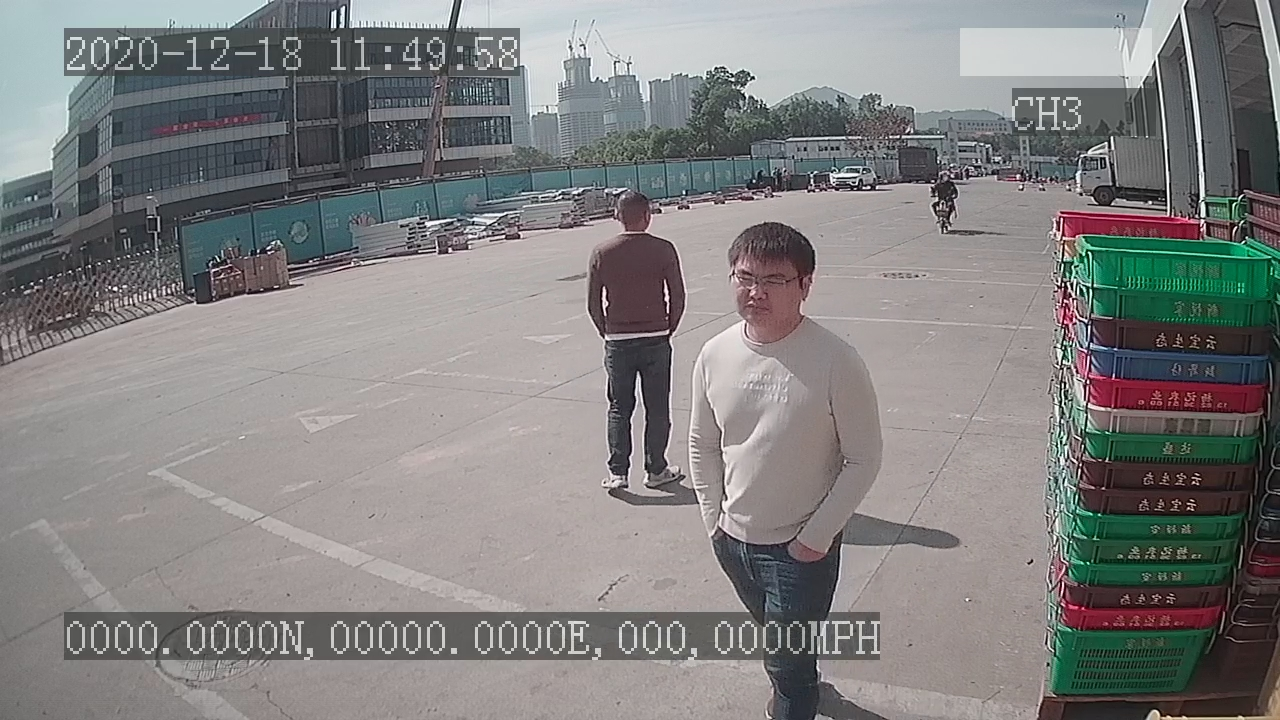person: (583, 190, 690, 492)
